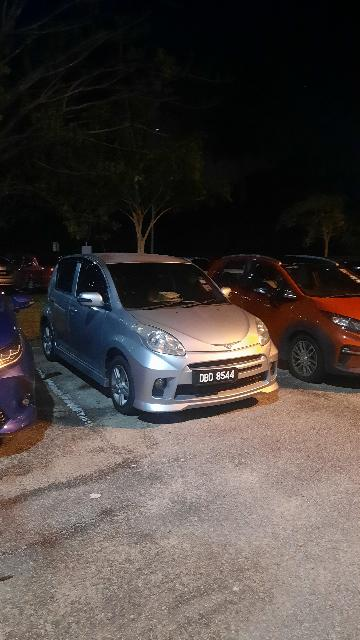License_Plate: (192, 366, 241, 387)
car: (47, 249, 282, 419), (211, 251, 360, 387)
